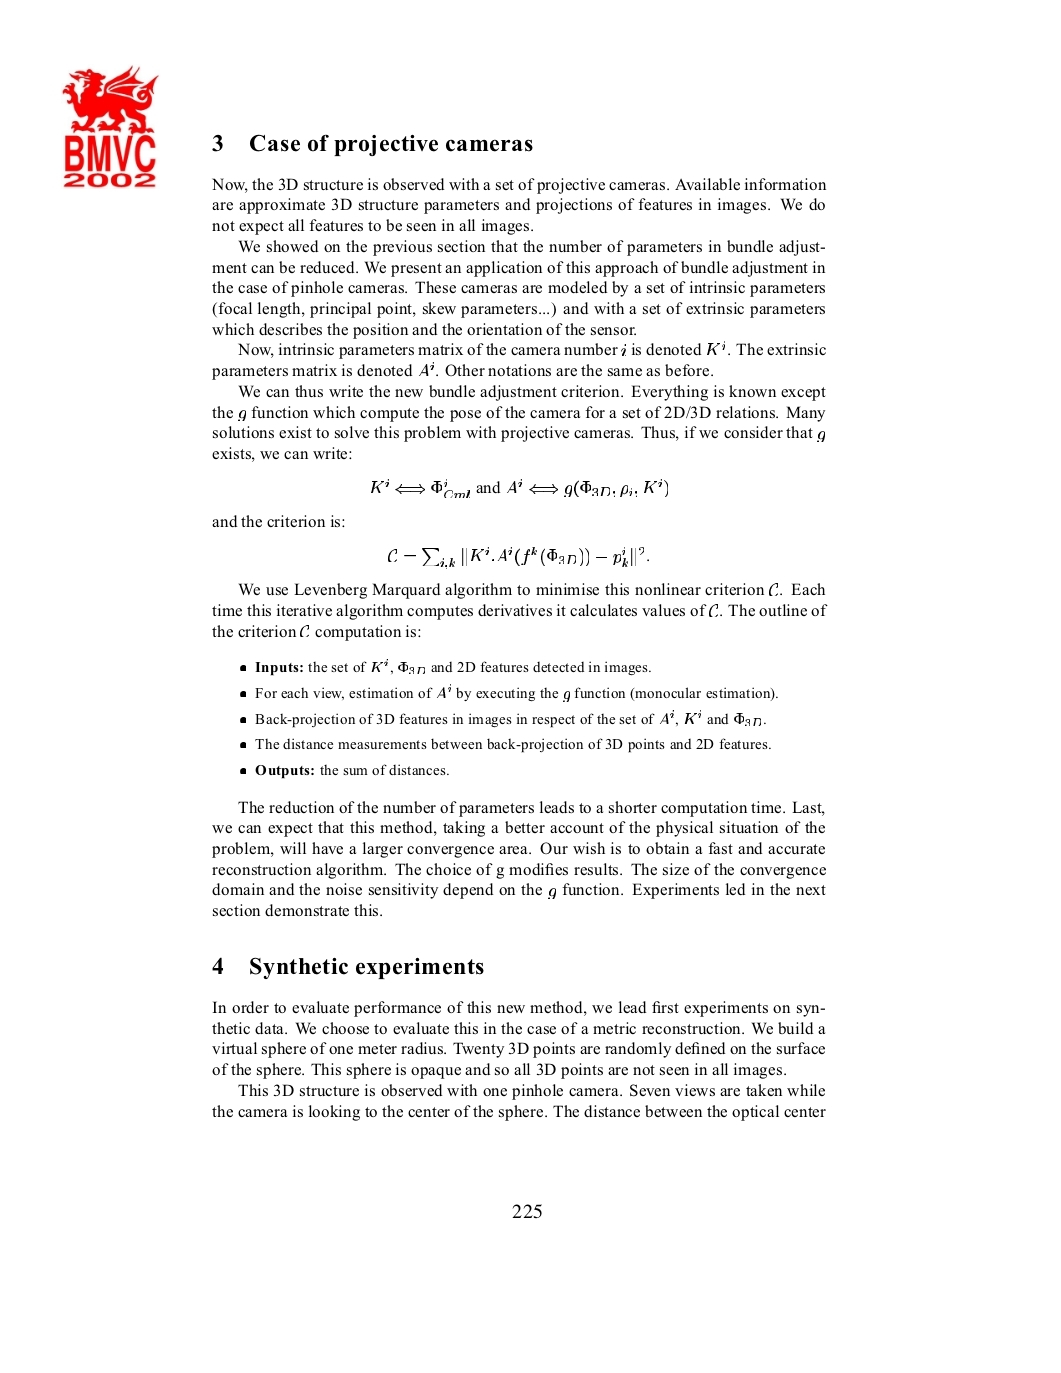figure: (61, 65, 158, 187)
formula: (388, 545, 648, 569), (371, 478, 666, 498)
